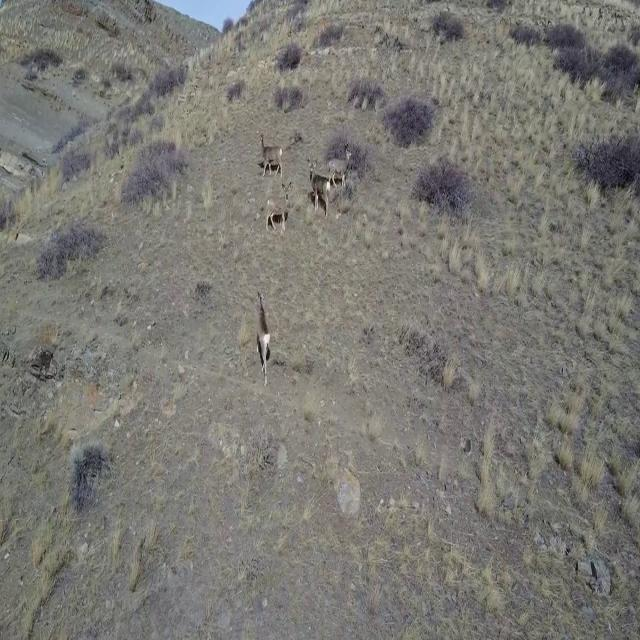Deer: (252, 282, 274, 386), (260, 182, 292, 236), (305, 156, 331, 216), (328, 142, 352, 198), (258, 130, 284, 178)
